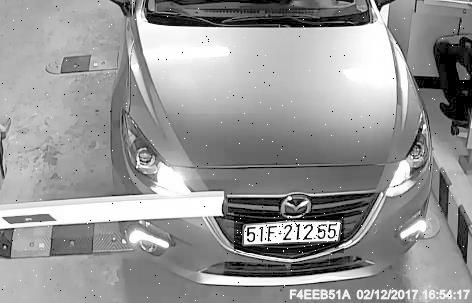License-plate: (236, 214, 347, 254)
